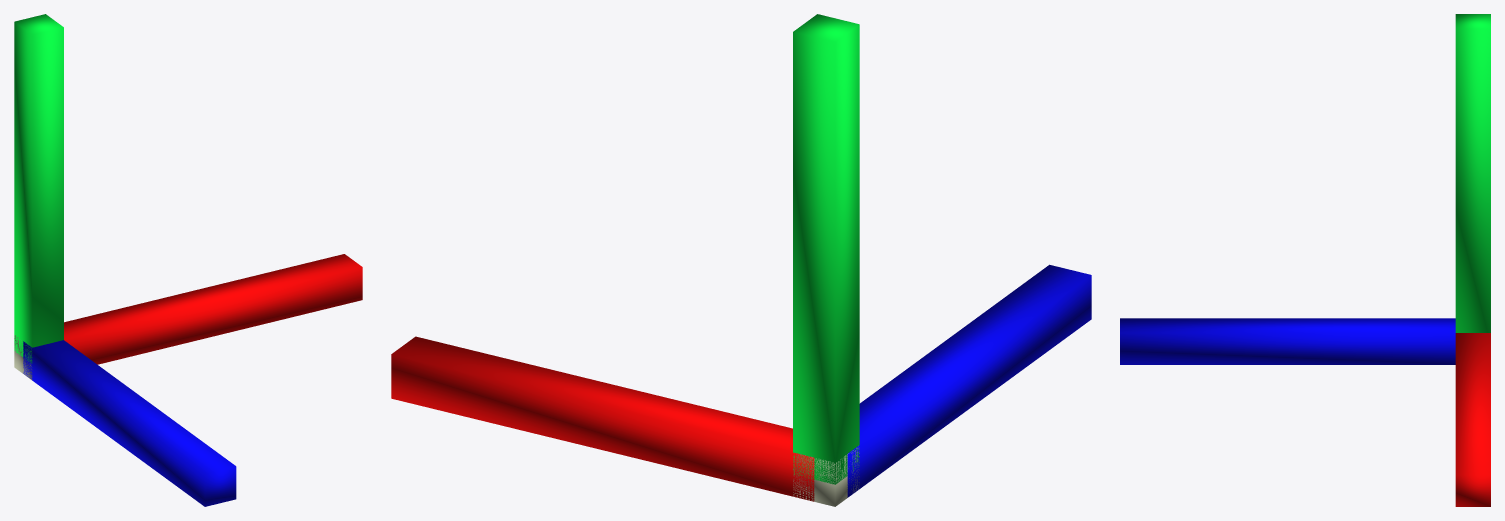
The model's file is axis.dae.
The picture shows the model from 3 angles, left to right: view 1: azimuth 30°, elevation 25°; view 2: azimuth 150°, elevation 25°; view 3: azimuth 270°, elevation 25°; orthographic projection. The views are drawn at different scales.
Parts seen in each view (by area): view 1: Cube3-0, Cube1-0, Cube2-0, Cube4-0; view 2: Cube3-0, Cube1-0, Cube2-0, Cube4-0; view 3: Cube2-0, Cube3-0, Cube1-0.
Boxes of the visible parts, bbox=[...] form: Cube3-0: bbox=[14, 14, 63, 363]; Cube1-0: bbox=[64, 254, 362, 364]; Cube2-0: bbox=[23, 340, 236, 506]; Cube4-0: bbox=[14, 335, 32, 379]; Cube3-0: bbox=[793, 14, 859, 484]; Cube1-0: bbox=[391, 336, 814, 501]; Cube2-0: bbox=[847, 264, 1091, 497]; Cube4-0: bbox=[793, 448, 859, 506]; Cube2-0: bbox=[1120, 318, 1455, 364]; Cube3-0: bbox=[1455, 14, 1490, 332]; Cube1-0: bbox=[1455, 333, 1490, 506].
Bounding box in the file's own units: 15.75 × 15.75 × 15.75.
